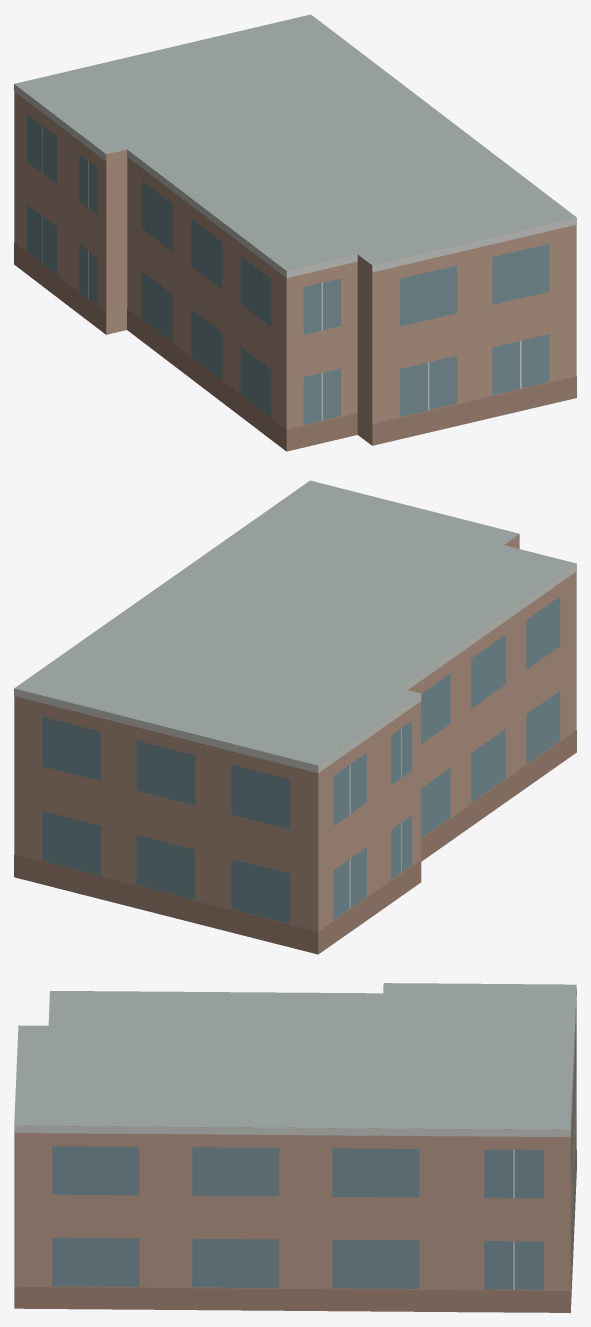
File: survey-upis-32913131.glb
3 views of the same model, one above another, from view 1: azimuth 30°, elevation 25°; view 2: azimuth 150°, elevation 25°; view 3: azimuth 270°, elevation 25° (orthographic). The views are drawn at different scales.
Visible parts, largest first — view 1: survey-upis-32913131.tmp; view 2: survey-upis-32913131.tmp; view 3: survey-upis-32913131.tmp.
Boxes of the visible parts, <box> form: survey-upis-32913131.tmp: <box>14,14,576,451</box>; survey-upis-32913131.tmp: <box>14,480,576,954</box>; survey-upis-32913131.tmp: <box>14,983,576,1312</box>.
Size of the model in its own units: 10.51 by 6.1 by 17.01.
